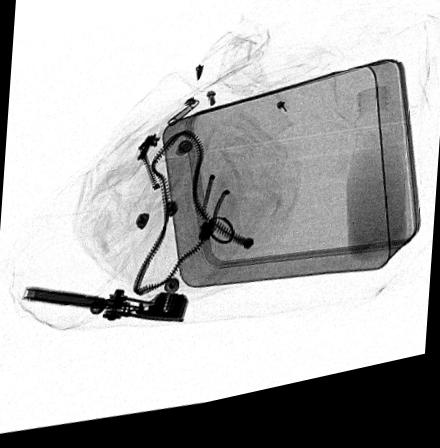Pliers: (20, 285, 188, 331)
